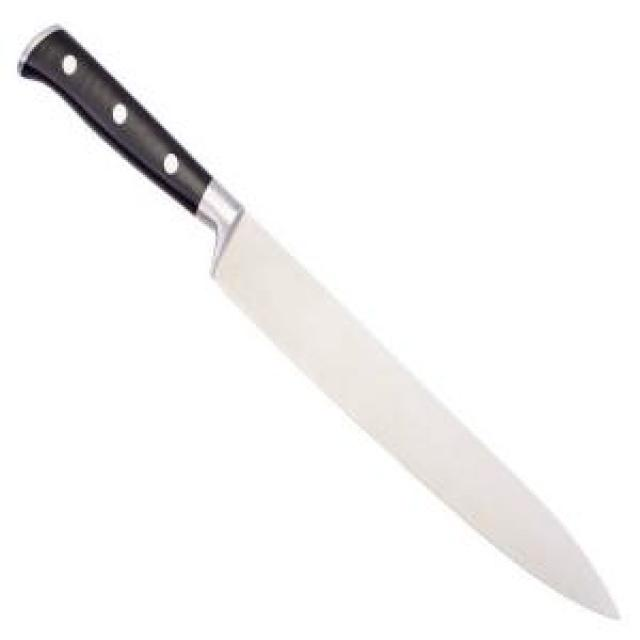knife: (15, 23, 624, 624)
